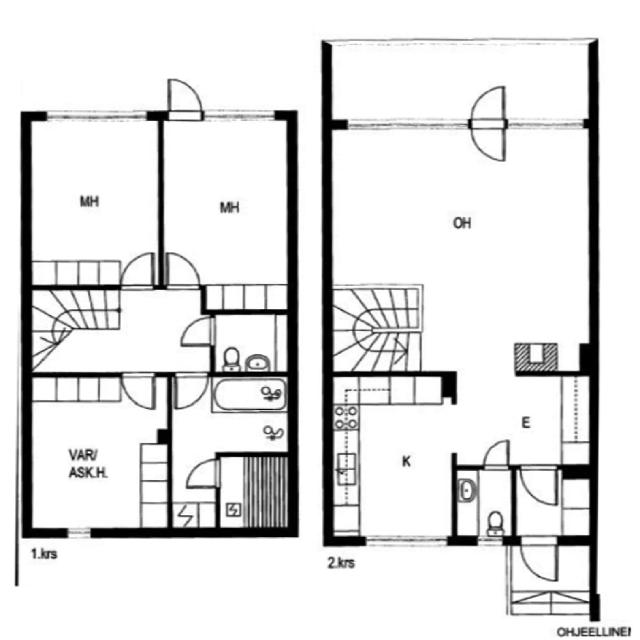door: (469, 420, 547, 472), (465, 82, 509, 166), (516, 533, 560, 586), (160, 75, 207, 124), (158, 246, 204, 296), (116, 368, 162, 415), (516, 462, 562, 509), (115, 248, 159, 296), (169, 369, 211, 413), (173, 312, 220, 349), (476, 433, 517, 473), (182, 456, 225, 494)
window: (339, 114, 471, 139), (354, 525, 454, 557), (41, 104, 152, 128), (197, 104, 283, 128), (502, 114, 591, 136), (470, 532, 510, 552), (61, 522, 98, 543)
zone: (326, 123, 593, 381), (160, 113, 294, 307), (24, 372, 172, 534), (25, 115, 163, 286), (328, 373, 457, 544), (451, 373, 594, 467), (212, 312, 292, 412), (217, 452, 294, 534), (456, 466, 512, 543)
